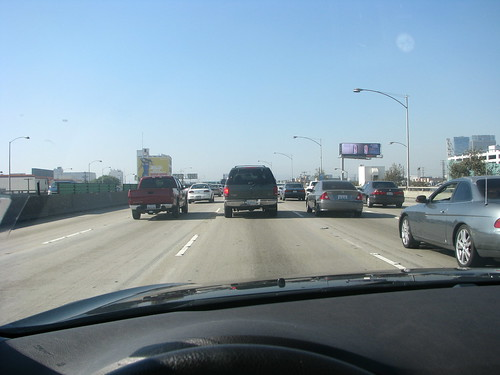car: (399, 172, 500, 264), (213, 161, 280, 214), (126, 173, 186, 221), (302, 181, 372, 211), (364, 182, 405, 209), (187, 182, 215, 204), (279, 178, 306, 200)
road: (1, 198, 450, 375)
sky: (1, 1, 495, 158)
